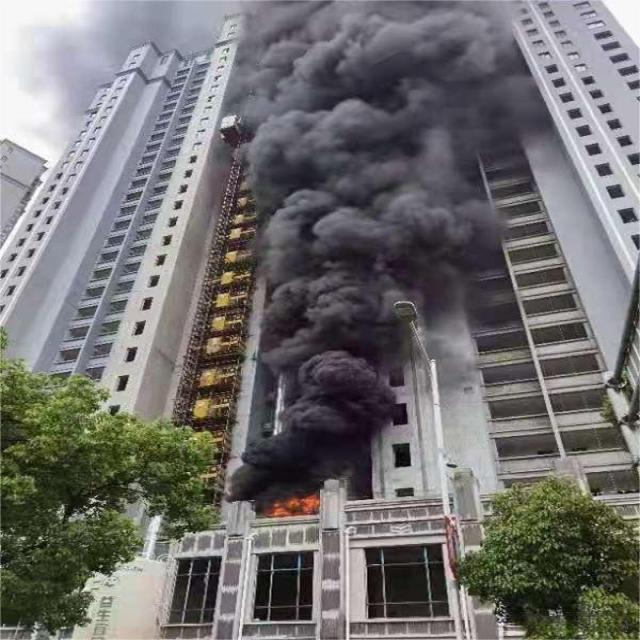Smoke: (223, 3, 532, 504)
